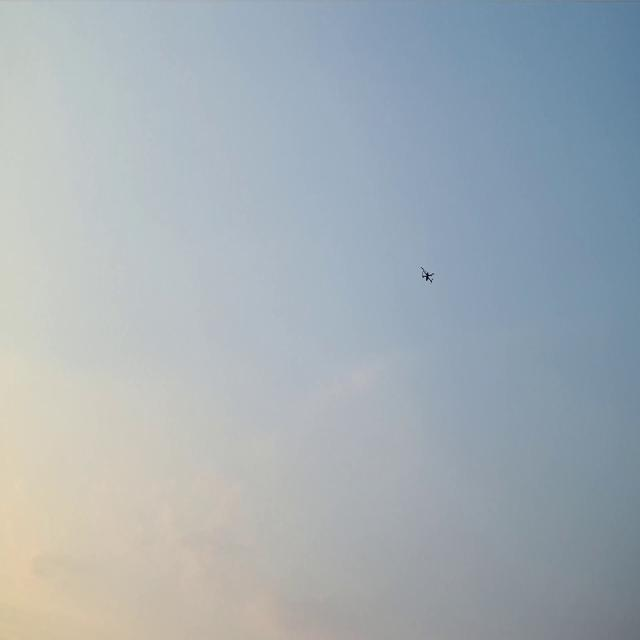UAV: (422, 269, 433, 283)
